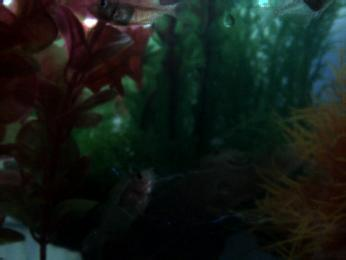X-ray fish: (91, 164, 159, 234), (86, 1, 189, 30), (255, 1, 339, 29)
